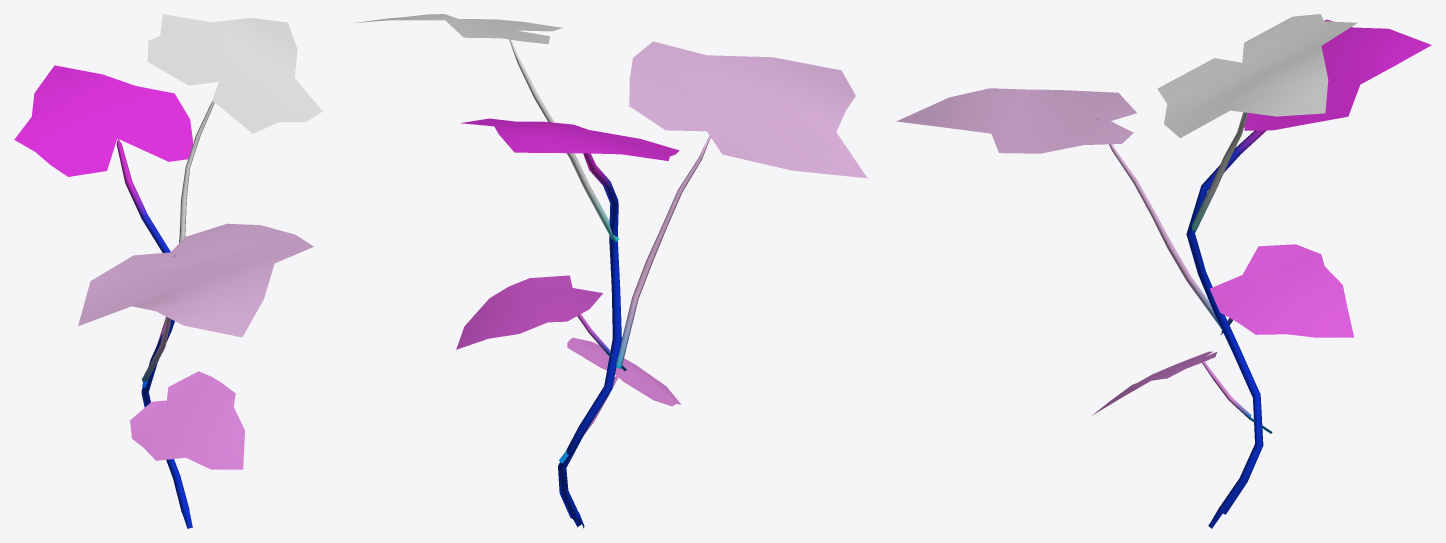
File: English_Ivy_xfcnebhqx_High_xfcnebhqx_VarI_LOD1.fbx
3 views of the same model, side by side, from view 1: azimuth 30°, elevation 25°; view 2: azimuth 150°, elevation 25°; view 3: azimuth 270°, elevation 25° (orthographic). The views are drawn at different scales.
Visible parts, largest first — view 1: _zgwu_VarI_LOD1; view 2: _zgwu_VarI_LOD1; view 3: _zgwu_VarI_LOD1.
Boxes of the visible parts, x1=… form: _zgwu_VarI_LOD1: x1=14, y1=14, x2=322, y2=528; _zgwu_VarI_LOD1: x1=352, y1=14, x2=867, y2=528; _zgwu_VarI_LOD1: x1=896, y1=14, x2=1431, y2=528.
Size of the model in its own units: 14.09 by 18.91 by 17.5.
